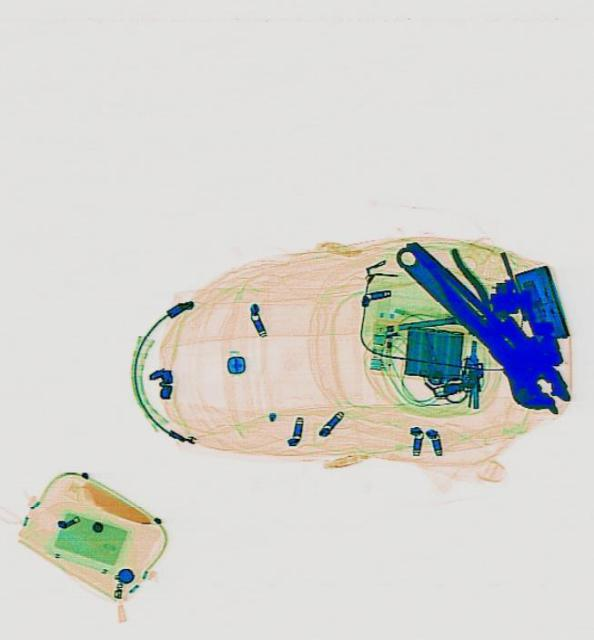Wrench: (379, 222, 578, 420)
